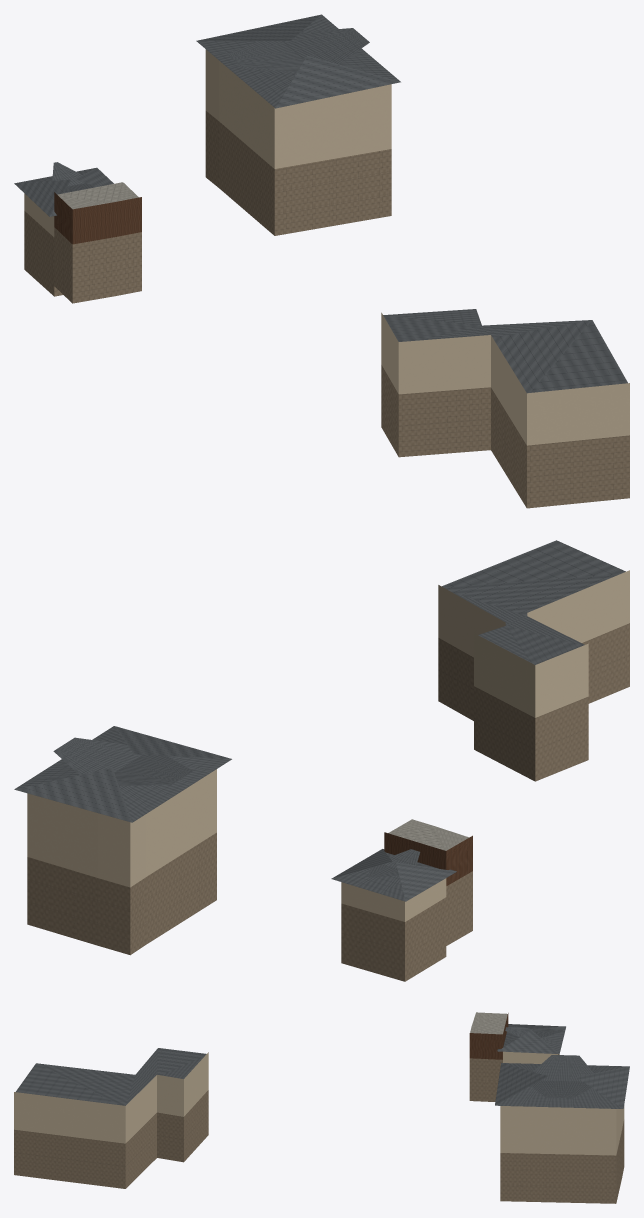
Rendered from bld_c36_-27_444.gltf.
The picture shows the model from 3 angles, top to bottom: view 1: azimuth 30°, elevation 25°; view 2: azimuth 150°, elevation 25°; view 3: azimuth 270°, elevation 25°; orthographic projection. The views are drawn at different scales.
Visible parts, largest first — view 1: bld_c36_-27_444; view 2: bld_c36_-27_444; view 3: bld_c36_-27_444.
Boxes of the visible parts, x1=… form: bld_c36_-27_444: x1=14, y1=14, x2=629, y2=508; bld_c36_-27_444: x1=14, y1=540, x2=629, y2=981; bld_c36_-27_444: x1=14, y1=1012, x2=629, y2=1203.
Bounding box in the file's own units: 28.33 × 12.2 × 58.93.
7 materials, 7 textured.
